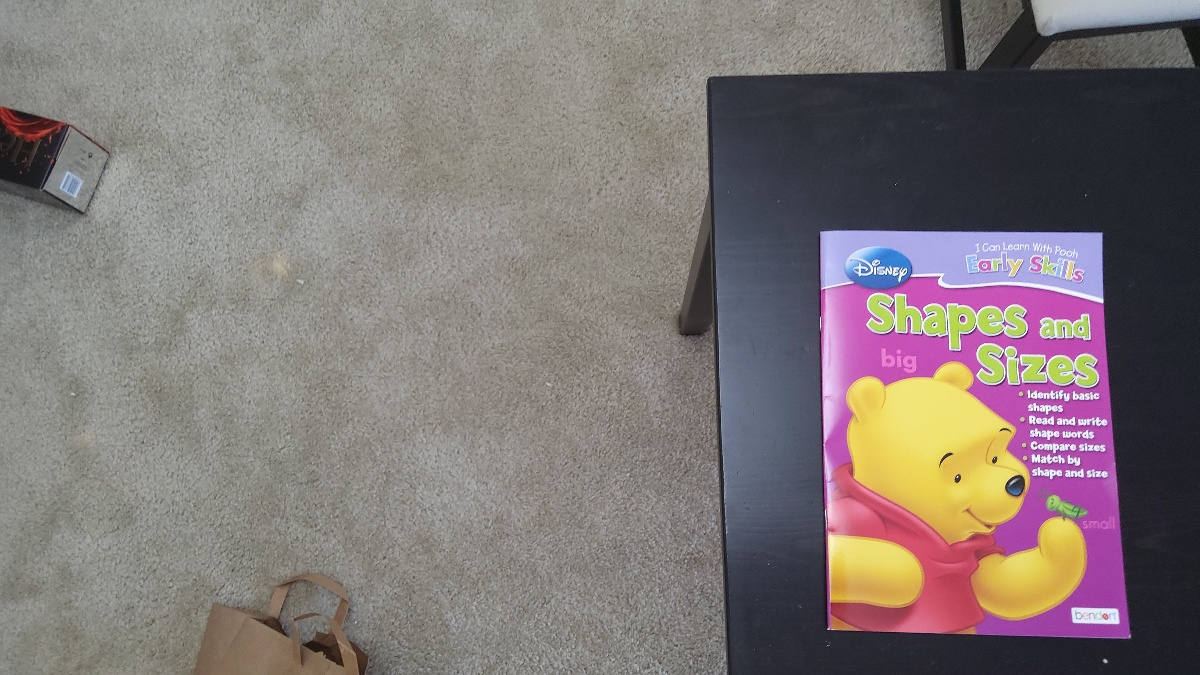book: (828, 233, 1113, 630)
